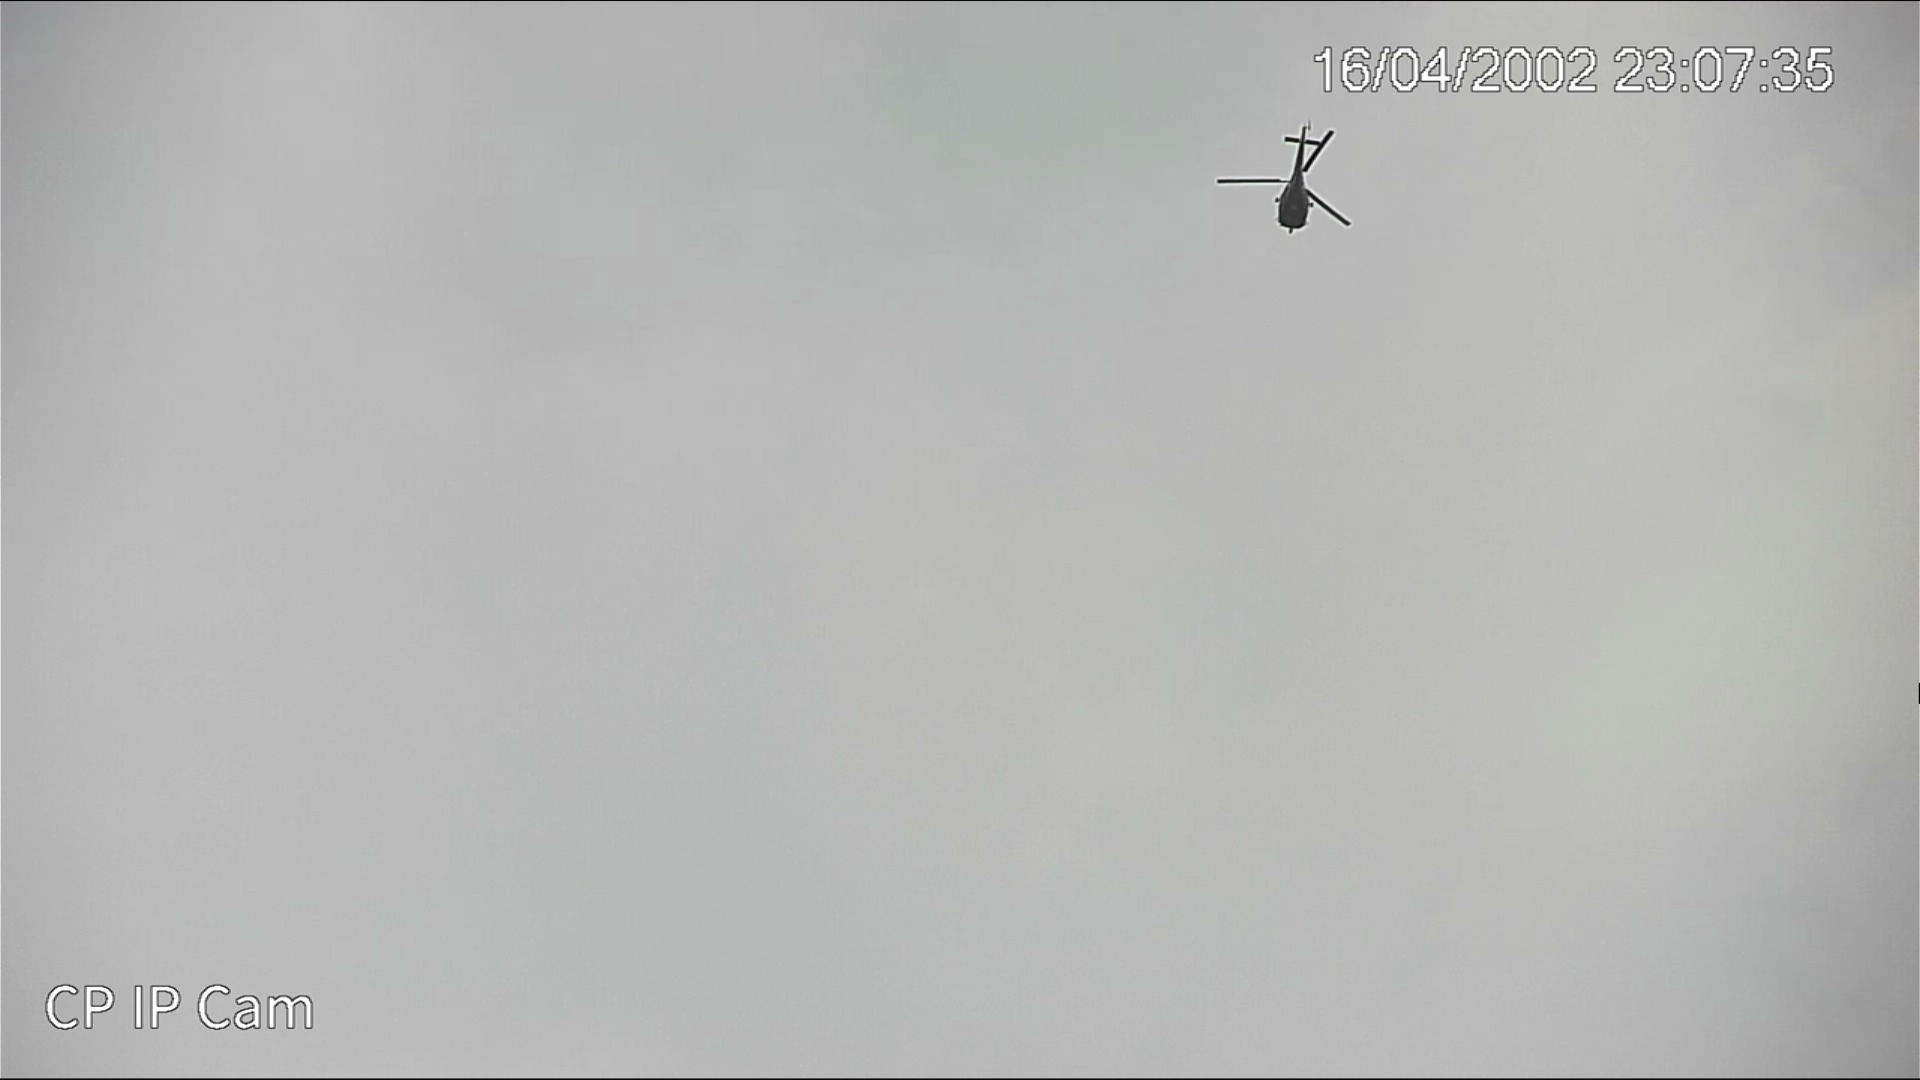SU_30: (1215, 124, 1358, 241)
